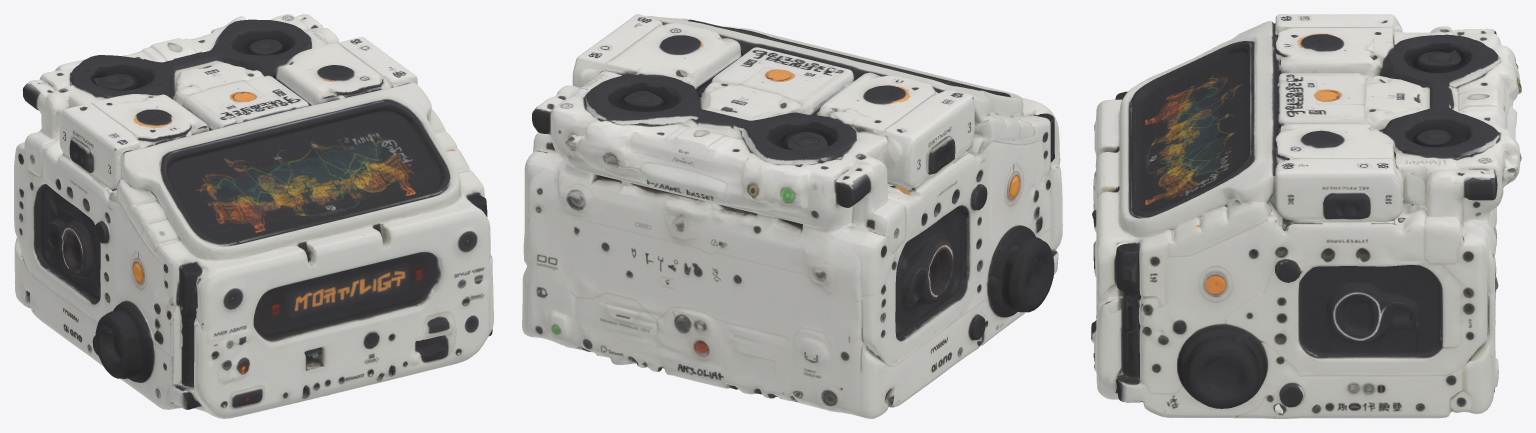
The model's file is 二类设备骨干.glb.
3 renders of one model, left to right at view 1: azimuth 30°, elevation 25°; view 2: azimuth 150°, elevation 25°; view 3: azimuth 270°, elevation 25°, orthographic. The views are drawn at different scales.
Parts seen in each view (by area): view 1: temp_mesh.ply_1; view 2: temp_mesh.ply_1; view 3: temp_mesh.ply_1.
Boxes of the visible parts, box(x1,y1,x2,y2) form: temp_mesh.ply_1: box(14, 14, 493, 418); temp_mesh.ply_1: box(522, 14, 1062, 418); temp_mesh.ply_1: box(1091, 14, 1521, 418).
Bounding box in the file's own units: 1.97 × 1.18 × 1.85.
1 material, 1 textured.
